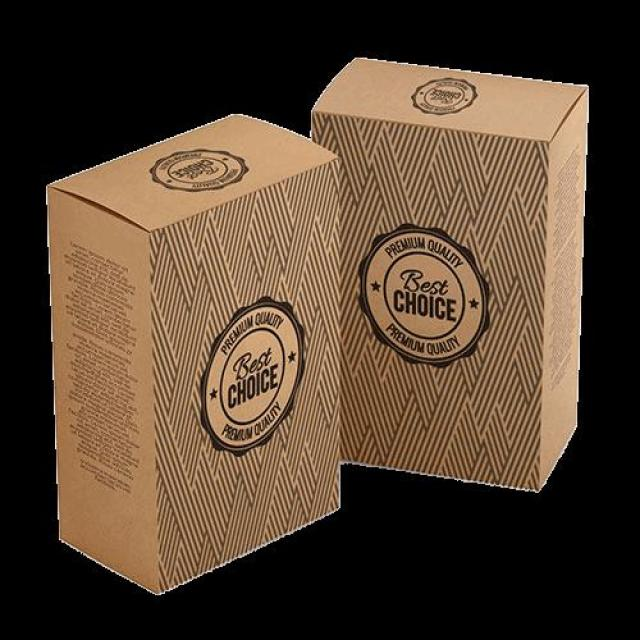Pathole: (33, 97, 364, 584), (289, 29, 604, 498)
